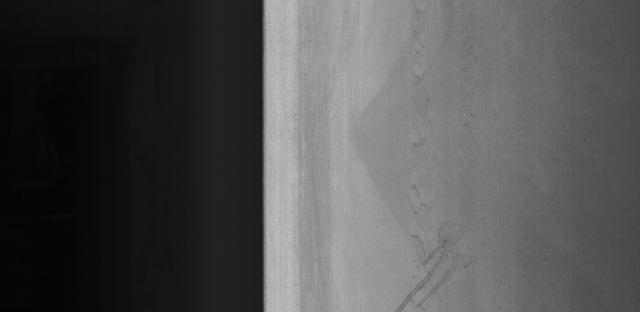silk_spot: (408, 7, 507, 192)
water_spot: (384, 214, 486, 312)
